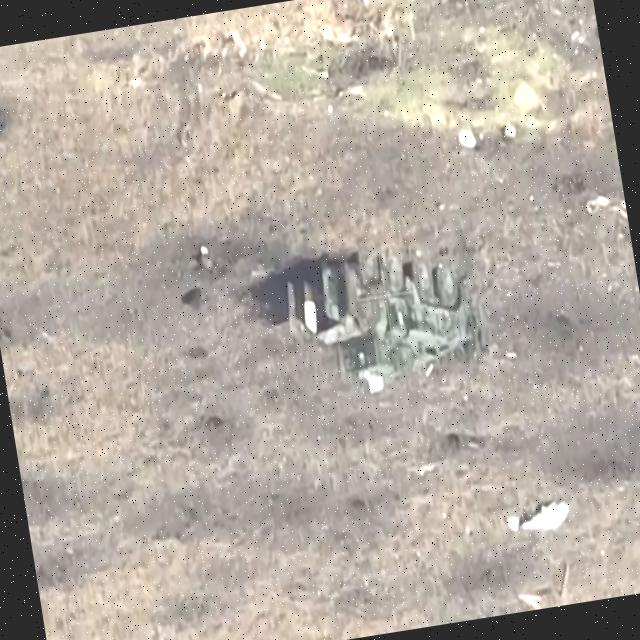APC: (279, 232, 491, 406)
